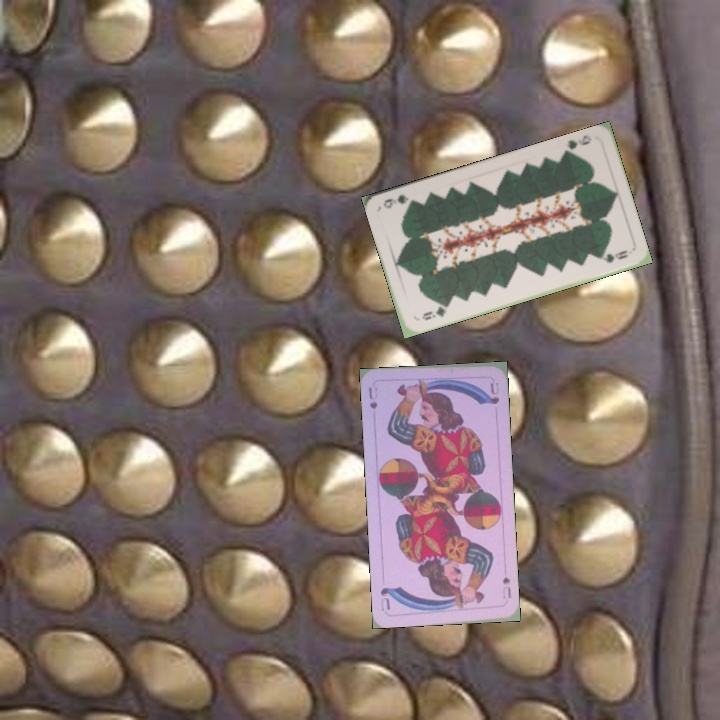G9: (560, 131, 594, 156), (418, 300, 452, 323)
SU: (364, 383, 380, 412), (499, 573, 513, 601)
